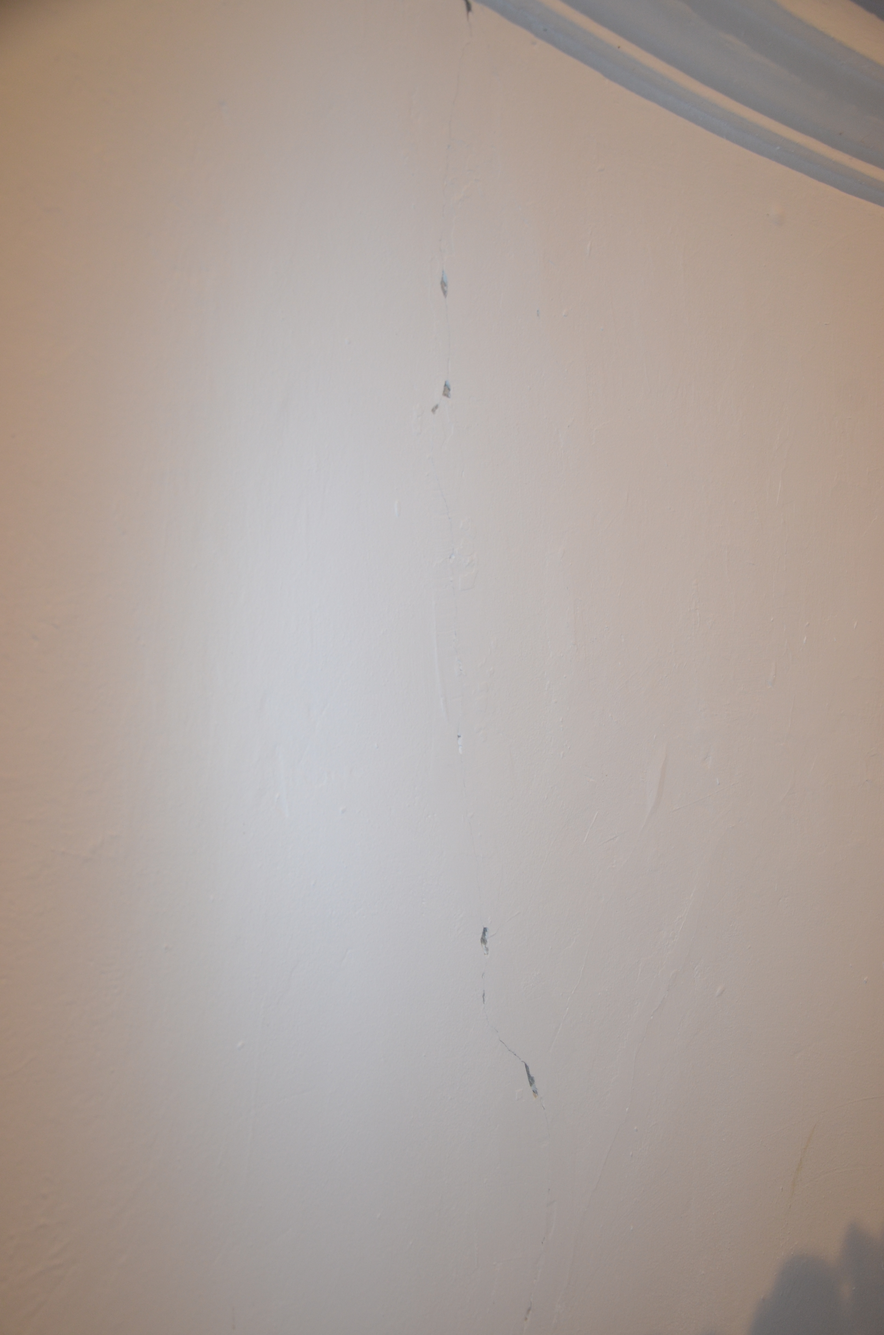Crack: (383, 8, 672, 1254)
